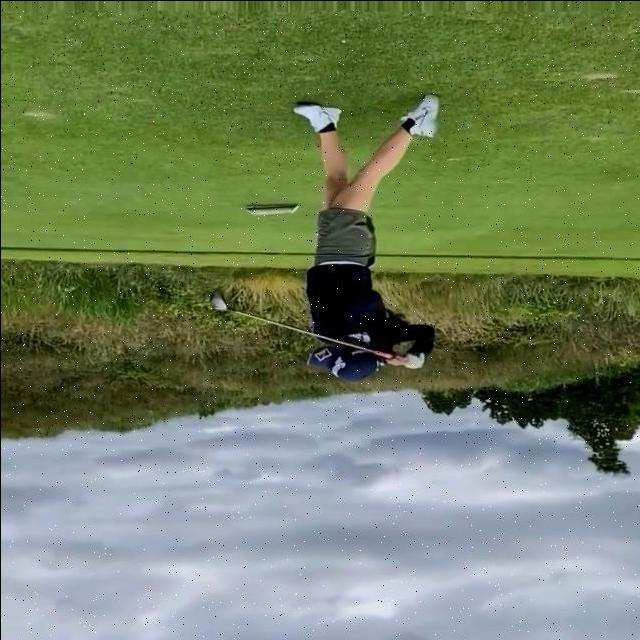ClubHandle: (210, 288, 392, 357)
ClubHead: (210, 288, 227, 308)
